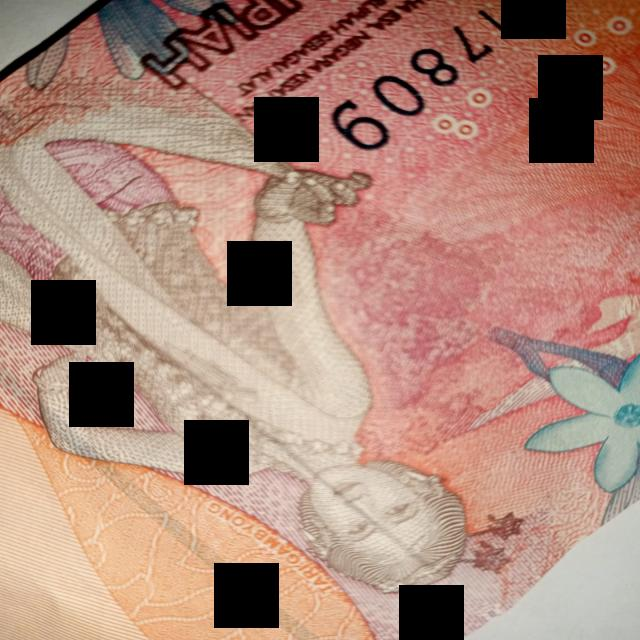lima ribu rupiah: (0, 0, 640, 640)
